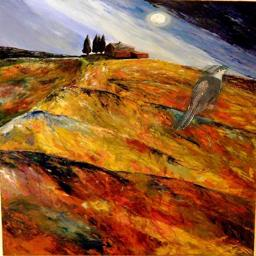Cuckoo: (172, 65, 230, 132)
